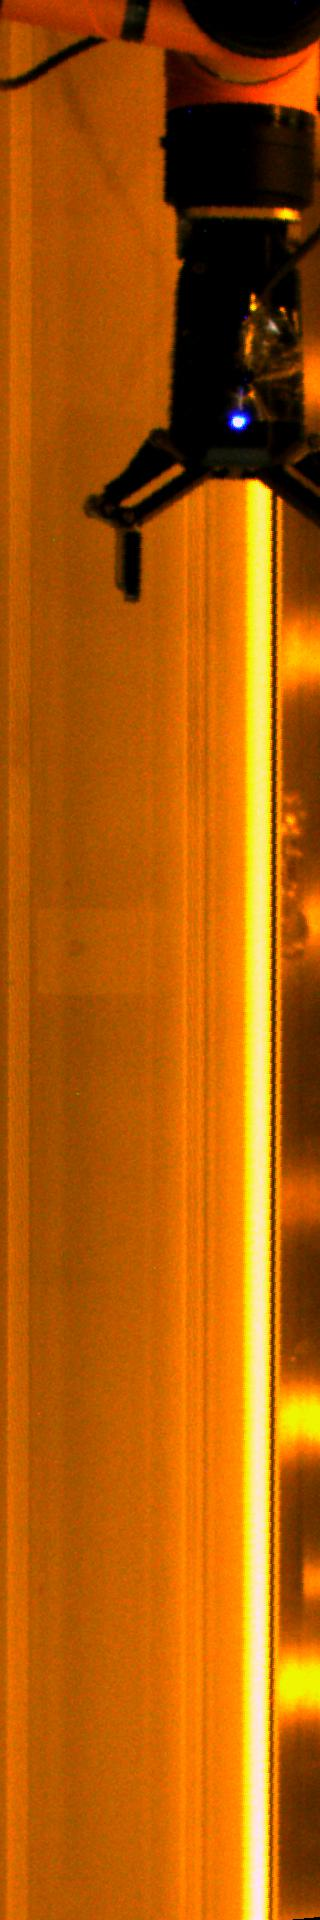keyPoint_1: (224, 407, 254, 437)
